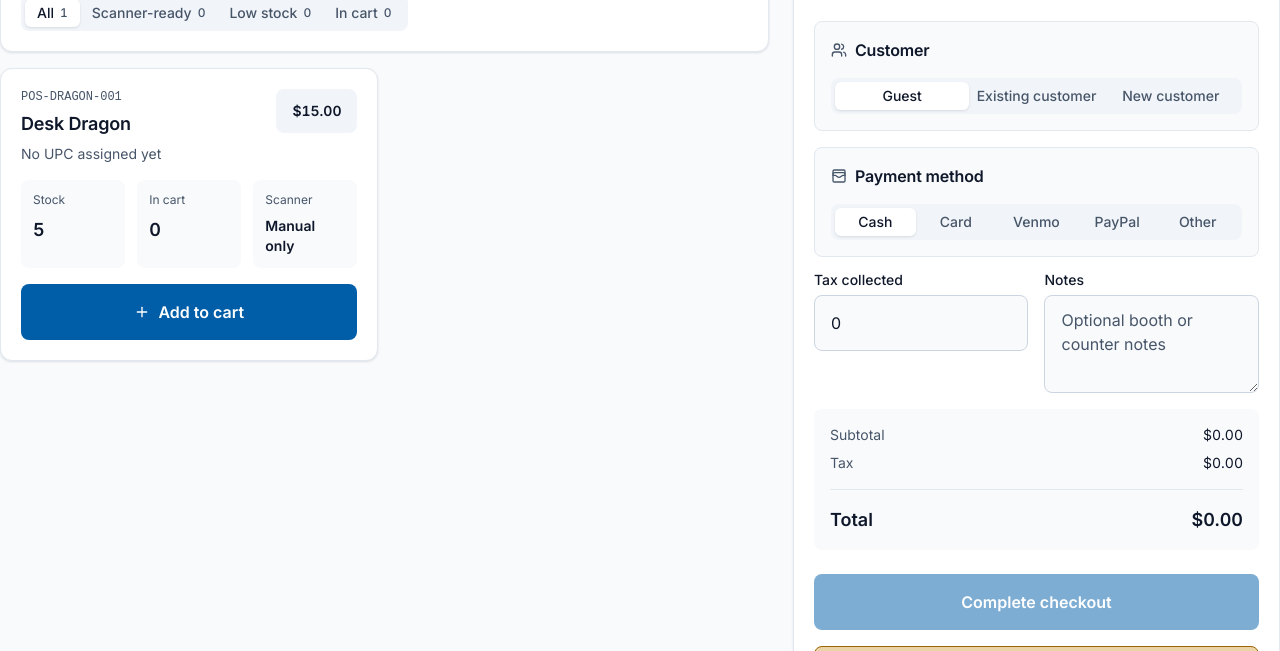
Scenario: POSPage › shows checkout API errors without clearing the cart
(page scrolled)
Expected: the heading "Desk Dragon" is shown, [21,113,131,134]
What coordinates should you click on to do the following:
click the button with aria-label "Add Desk Dragon to cart"
I would click on:
 (189, 312)
Its box is [21,284,358,340].
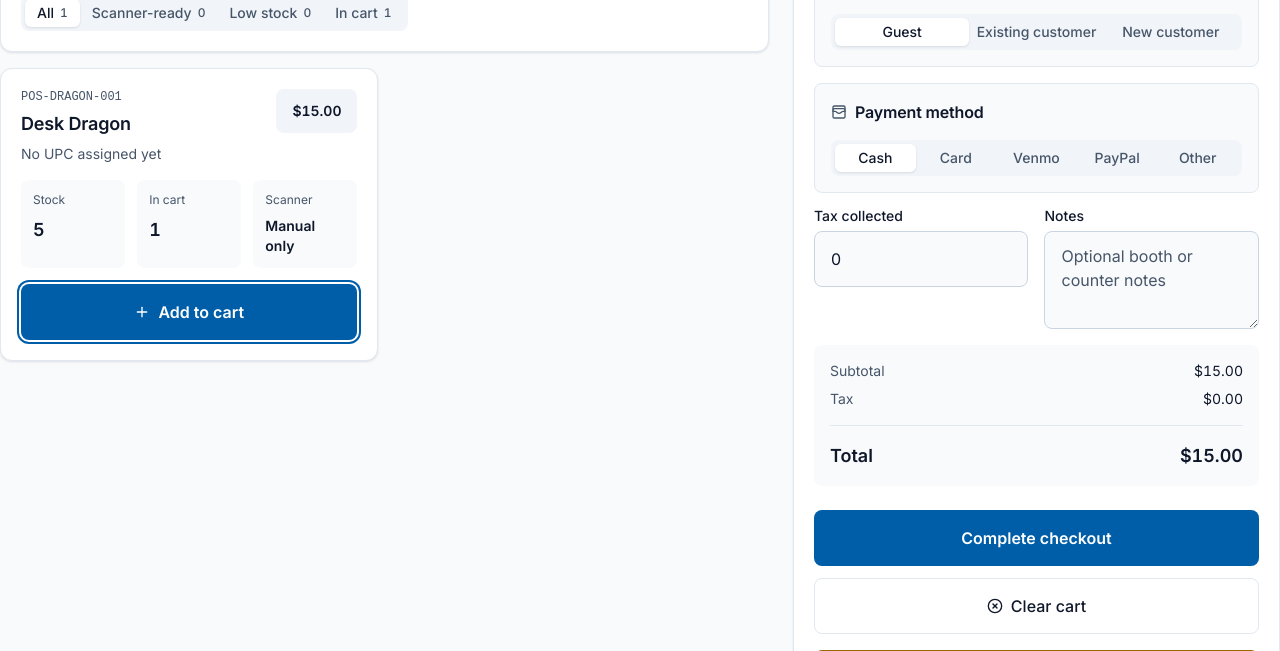
What coordinates should you click on to do the following:
click the button "Complete checkout"
I would click on:
 (1036, 538)
Its box is [814,510,1259,566].
(page scrolled)
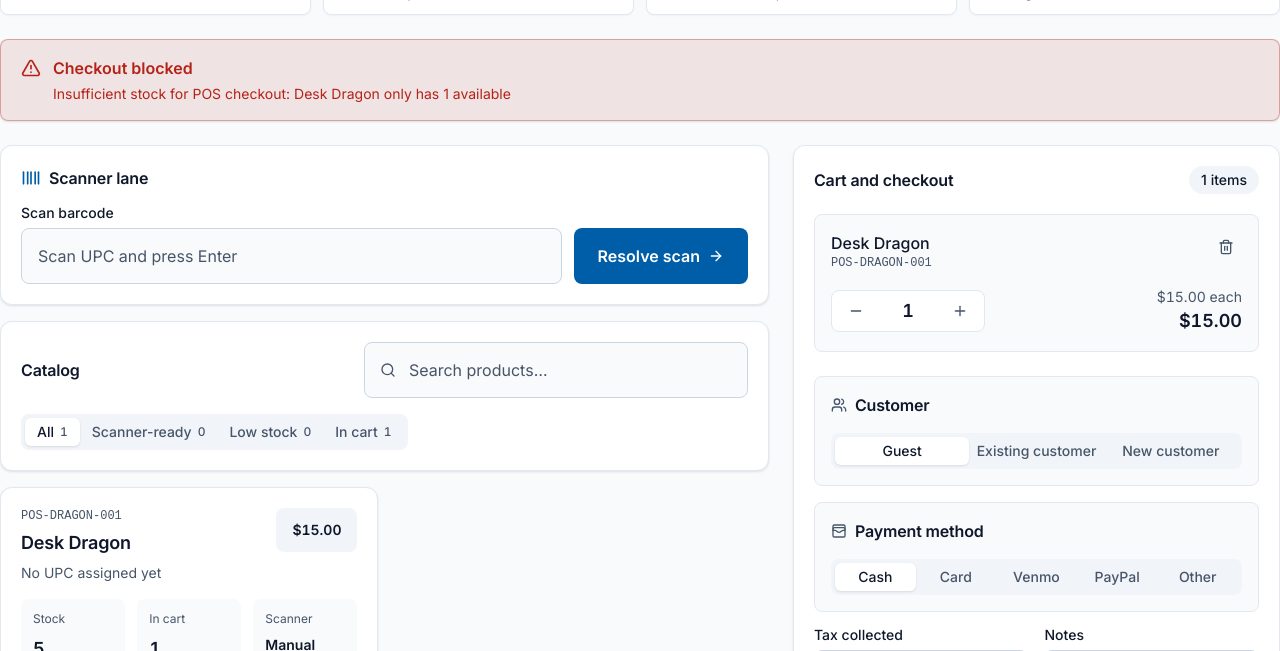
Expected: the text named "Desk Dragon quantity" reads "1", [902,300,914,321]
Expected: the message shows "Insufficient stock for POS checkout", [53,85,511,102]
